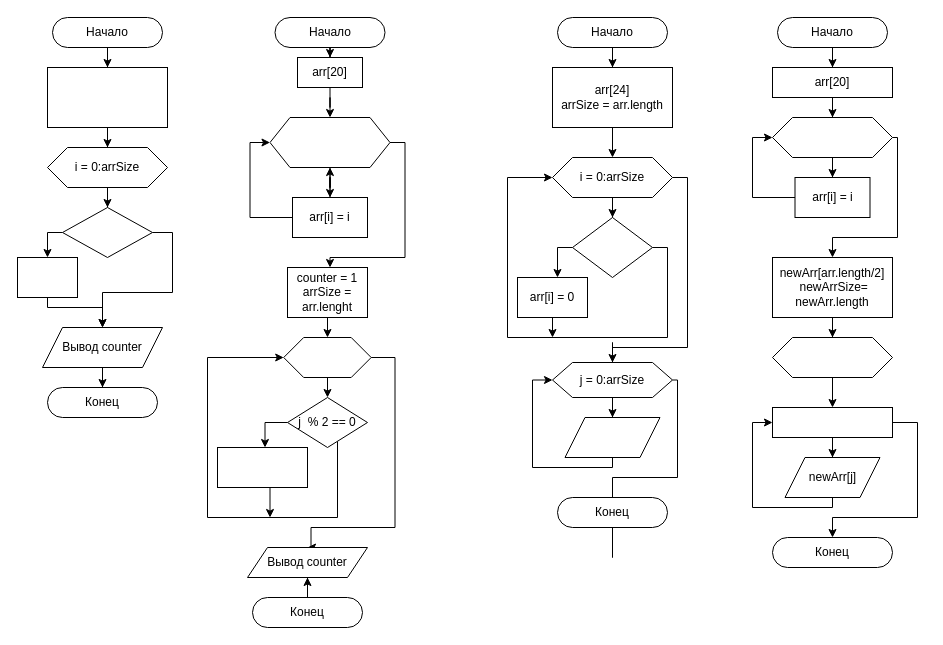
Image size: 943x645. Some labels were removed from this diagram. The shapes that lost their labels are listed below. From the top down, each one's box as (x1, y1, x2, y2) in pixels, then its label:
(46, 66, 168, 128): arr[10] counter = 0 arrSize = arr.length
(269, 116, 390, 168): i = 1:20
(772, 116, 892, 158): i = 0:20
(62, 206, 152, 258): arr[] % 3 == 0
(572, 216, 652, 278): arr[i] == 6
(16, 256, 78, 298): counter++
(283, 336, 371, 378): j = 1:arrSize
(772, 336, 892, 378): j = 0:newArrSize
(564, 416, 660, 458): arr[j]
(772, 406, 892, 438): newArr[j] = arr[j]
(216, 446, 308, 488): counter*=arr[j]
